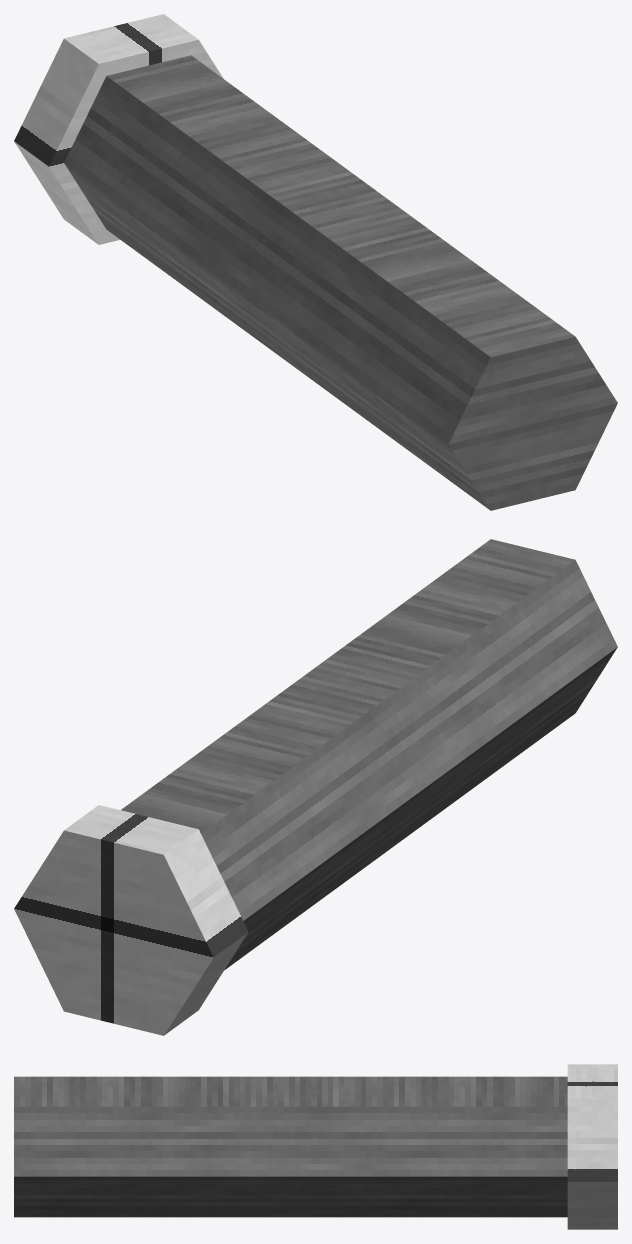
File: barrel_port_aphelion.glb
The picture shows the model from 3 angles, top to bottom: view 1: azimuth 30°, elevation 25°; view 2: azimuth 150°, elevation 25°; view 3: azimuth 270°, elevation 25°; orthographic projection. The views are drawn at different scales.
Parts seen in each view (by area): view 1: barrel, muzzle; view 2: barrel, muzzle; view 3: barrel, muzzle.
Part boxes in pixels (box(x1,y1,x2,y2)): barrel: box(64, 55, 617, 510); muzzle: box(14, 14, 223, 244); barrel: box(121, 539, 617, 970); muzzle: box(14, 805, 248, 1035); barrel: box(14, 1076, 567, 1217); muzzle: box(567, 1064, 617, 1229).
Bounding box in the file's own units: 6.6 × 5.72 × 24.
2 materials, 2 textured.
